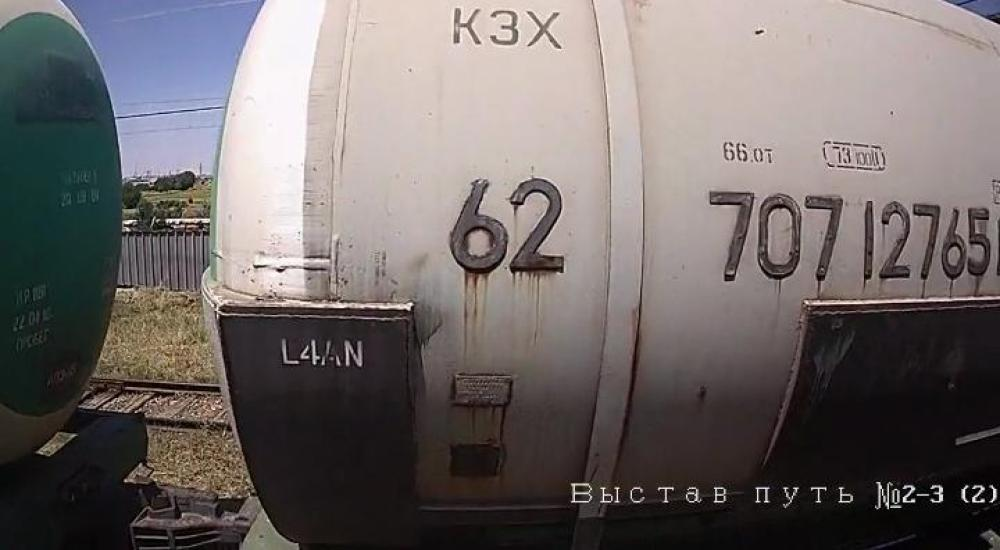Wagon-number: (706, 183, 995, 288)
